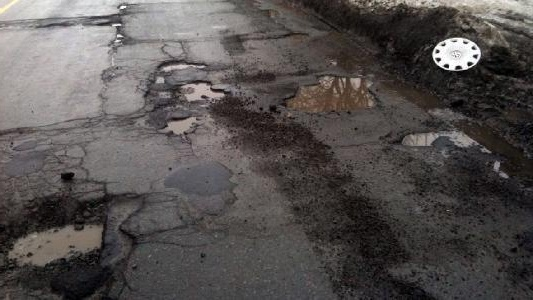pothole: (2, 190, 112, 272), (281, 73, 379, 115), (180, 77, 228, 103), (398, 127, 442, 149), (157, 112, 198, 135), (157, 58, 208, 74)
